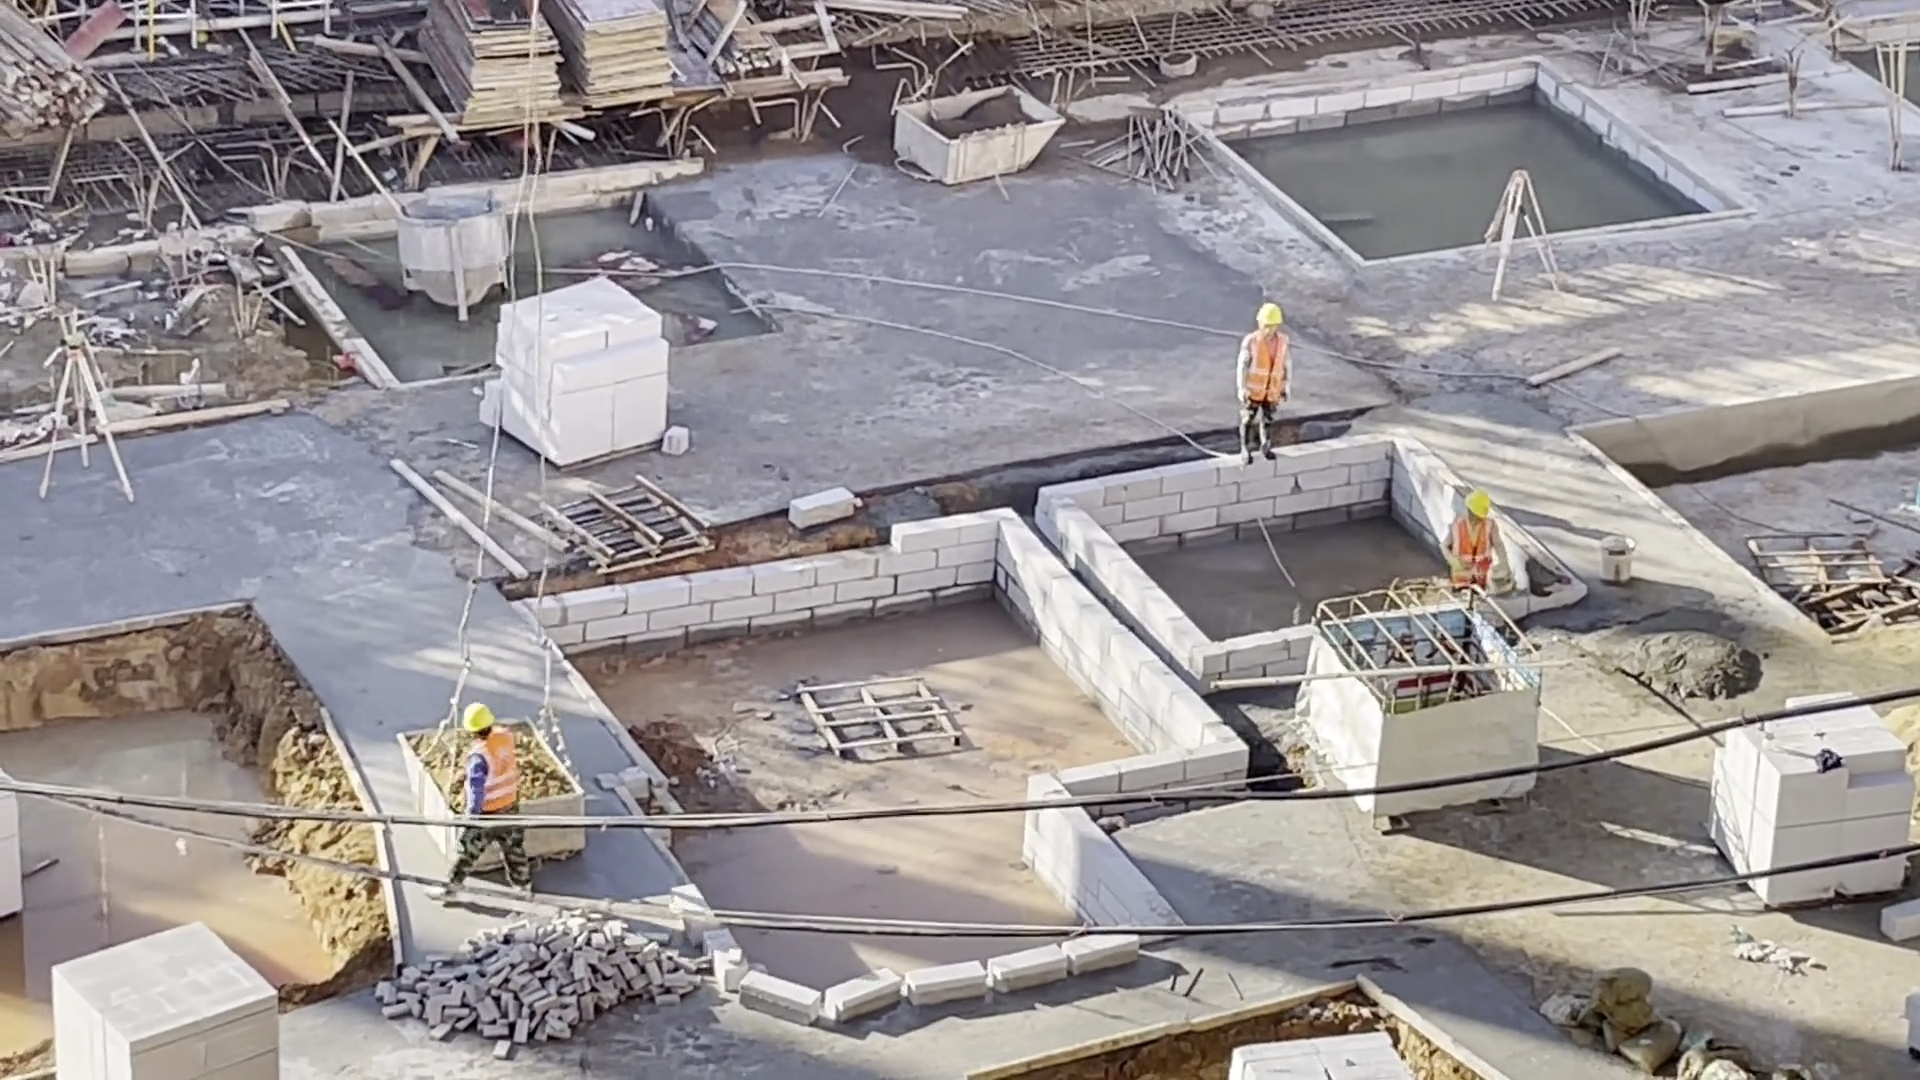board: (412, 5, 564, 130), (548, 1, 680, 115)
brick: (39, 913, 279, 1080), (484, 271, 669, 465), (1701, 730, 1910, 850), (1231, 1024, 1417, 1080)
helmet: (460, 701, 497, 733), (1463, 490, 1493, 518), (1254, 303, 1286, 328)
hopper: (881, 83, 1070, 187), (392, 185, 515, 320)
person: (1232, 300, 1300, 464), (1439, 486, 1517, 599), (453, 700, 523, 819)
vest: (1237, 329, 1292, 408), (470, 731, 521, 812), (1448, 517, 1498, 590)
wood: (1, 2, 119, 148)
